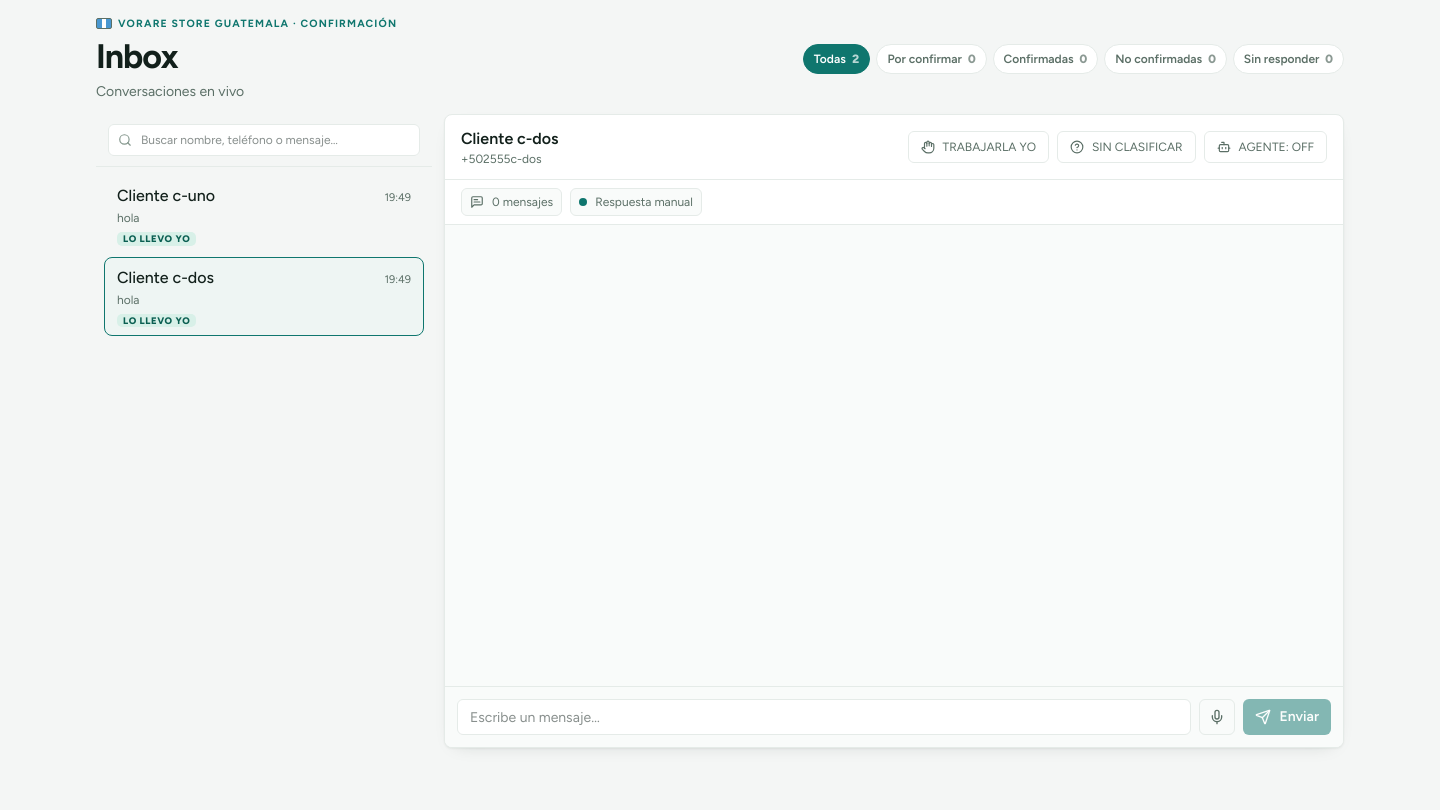
Test: Agente ON/OFF › cambia las dos filas del mismo contacto, porque el modo agente es del contacto
The width and height of the screenshot is (1440, 810).
Expected: the text "lo llevo yo" is shown 2 times, [117,232,196,246]; [117,314,196,327]
Click the button "Agente: OFF" at {"x": 1265, "y": 147}, box [1204,131,1327,163]
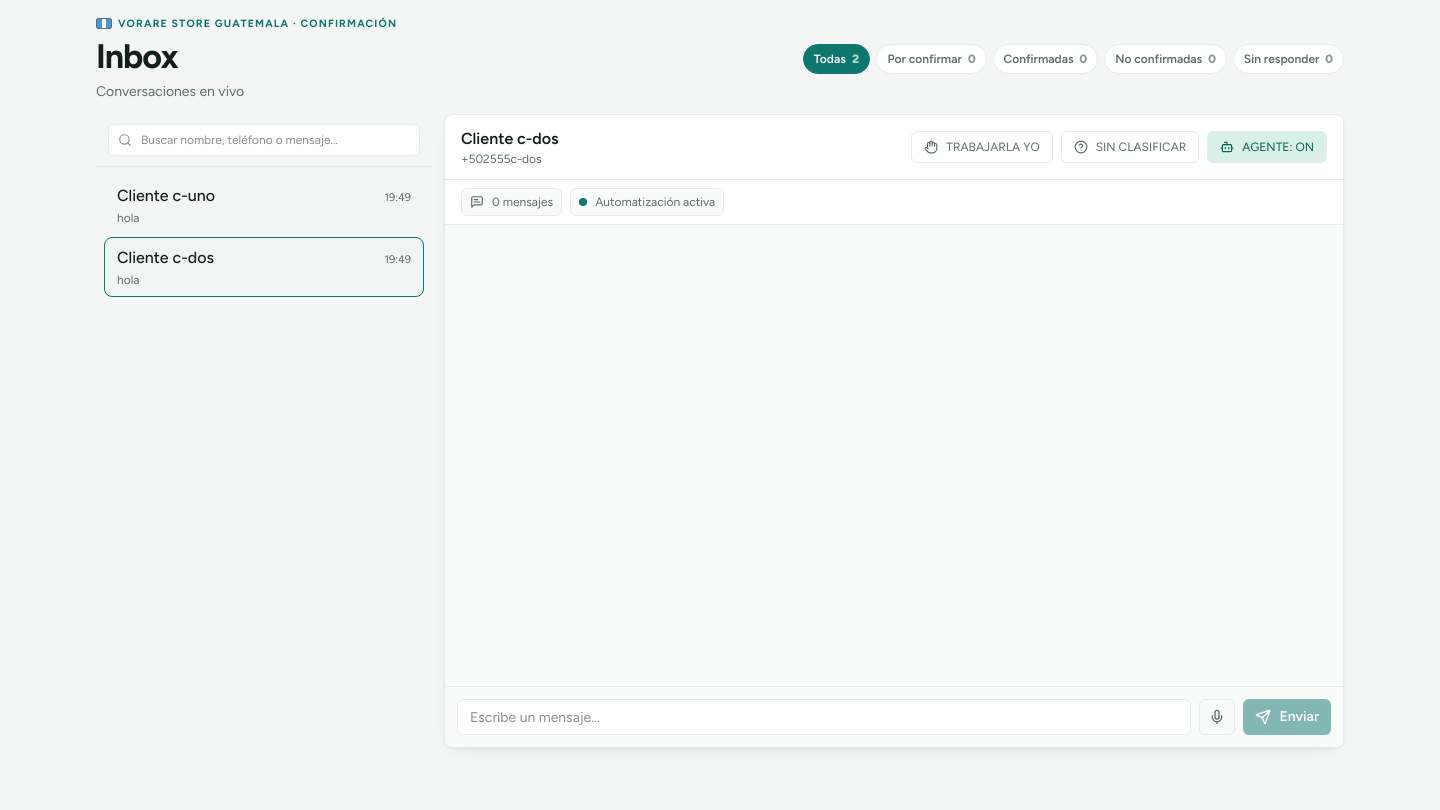
Expected: the button "Agente: ON" is shown, [1207,131,1327,163]
Expected: the text "lo llevo yo" is not shown
